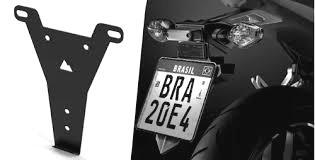placa_mercosul: (135, 56, 217, 142)
